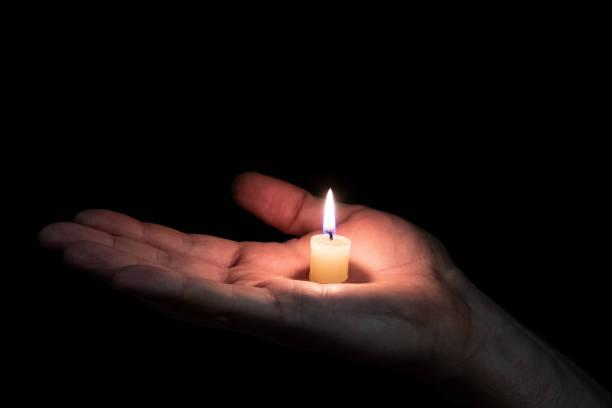Fire: (321, 187, 340, 237)
